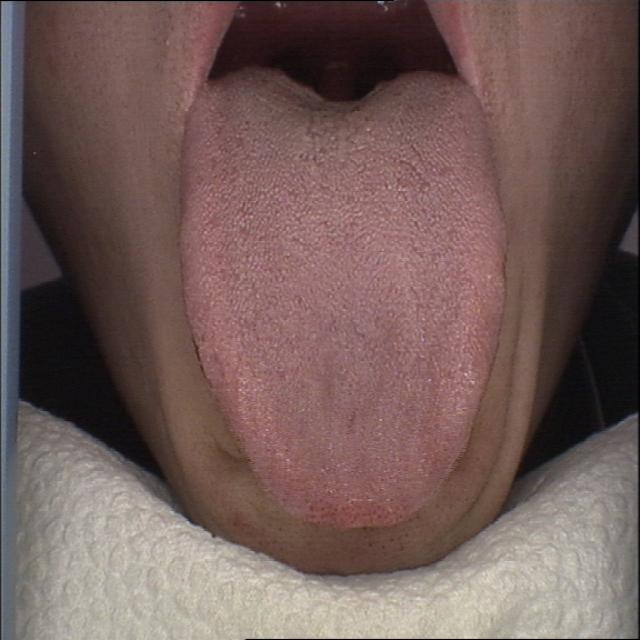tongue: (173, 65, 514, 537)
